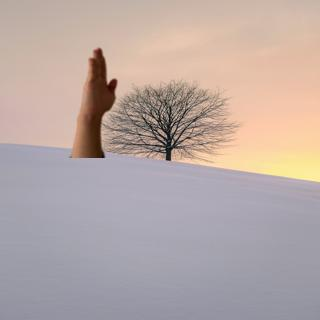RIGHT: (77, 41, 121, 125)
